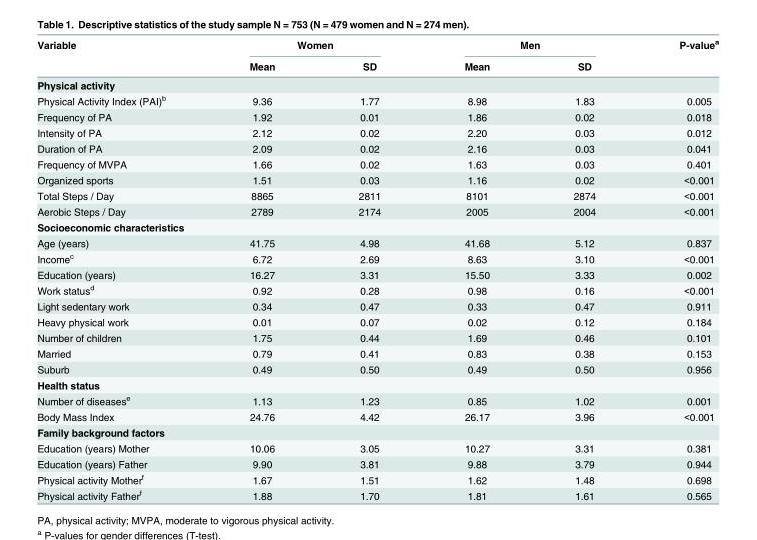table: (36, 37, 718, 501)
table column: (36, 37, 206, 501), (206, 37, 316, 501), (421, 37, 530, 501), (530, 37, 636, 501), (316, 37, 421, 501), (636, 37, 718, 501)
table column header: (36, 37, 718, 75)
table projected row header: (36, 75, 718, 92), (36, 218, 718, 234), (36, 376, 718, 392), (36, 424, 718, 440)
table row: (36, 55, 718, 75), (36, 37, 718, 55), (36, 75, 718, 92), (36, 249, 718, 266), (36, 281, 718, 298), (36, 92, 718, 108), (36, 108, 718, 124), (36, 124, 718, 140), (36, 140, 718, 156), (36, 171, 718, 187), (36, 187, 718, 203), (36, 218, 718, 234), (36, 313, 718, 329), (36, 329, 718, 345), (36, 345, 718, 361), (36, 376, 718, 392), (36, 392, 718, 408), (36, 408, 718, 424), (36, 424, 718, 440), (36, 470, 718, 486), (36, 156, 718, 171), (36, 203, 718, 218), (36, 234, 718, 249), (36, 266, 718, 281), (36, 298, 718, 313), (36, 361, 718, 376), (36, 440, 718, 455), (36, 455, 718, 470), (36, 486, 718, 501)
table spanning cell: (36, 37, 206, 75), (206, 37, 421, 55), (421, 37, 636, 55), (636, 37, 718, 75)
